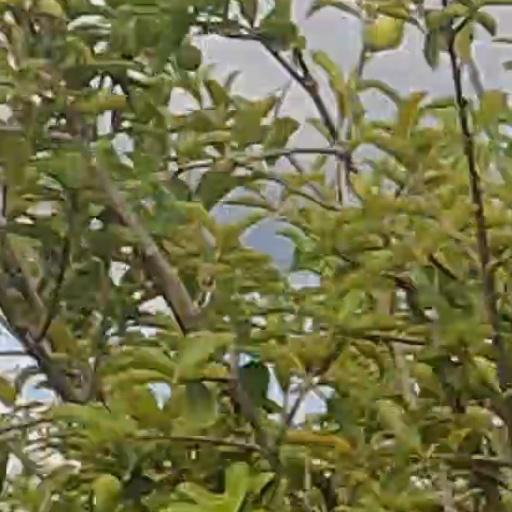acerola: (367, 21, 402, 50), (180, 46, 201, 71)
